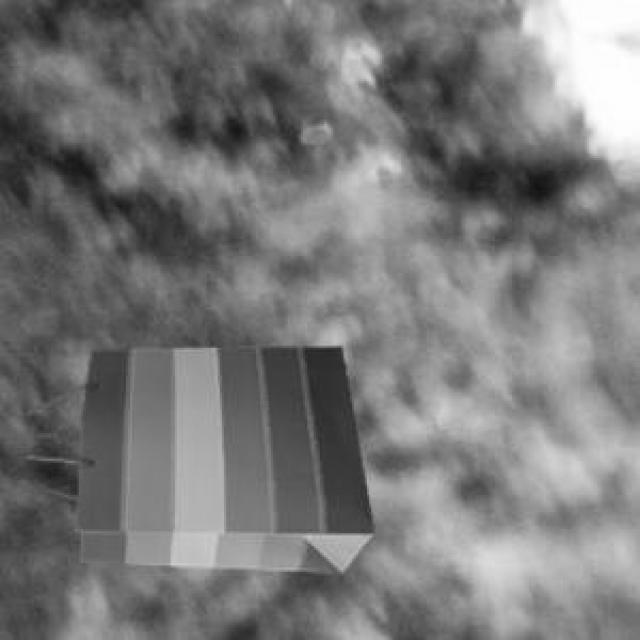paper: (24, 344, 369, 568)
